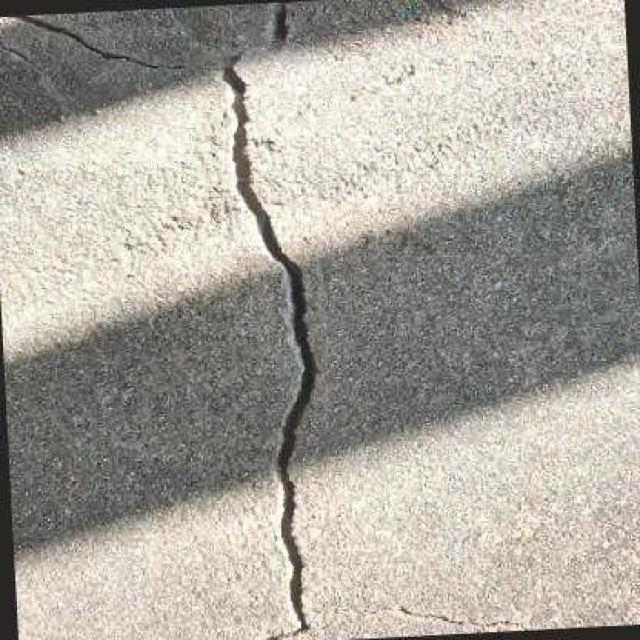D00: (221, 51, 316, 640), (38, 18, 215, 70)
